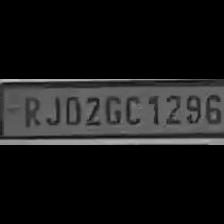0: (62, 93, 82, 126)
1: (143, 92, 161, 126)
2: (160, 91, 182, 127), (82, 93, 100, 126)
6: (202, 90, 222, 126)
9: (182, 90, 202, 126)
C: (122, 92, 142, 126)
G: (102, 93, 122, 125)
J: (42, 92, 60, 128)
R: (18, 92, 42, 128)
